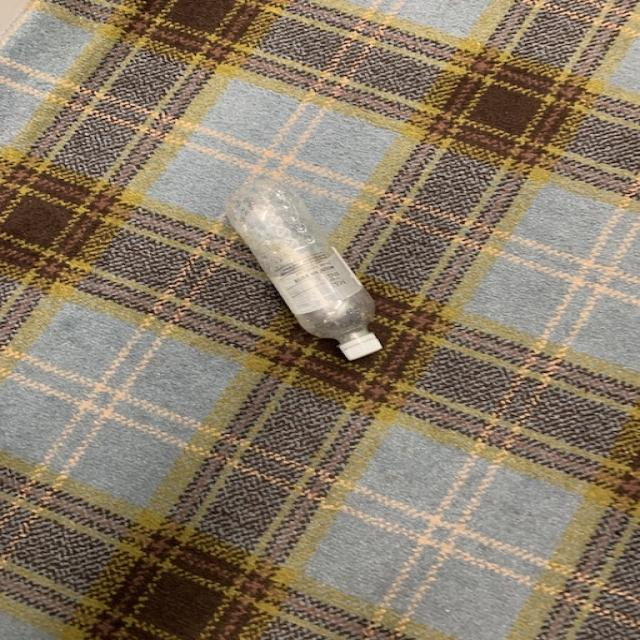Waste: (225, 179, 382, 360)
